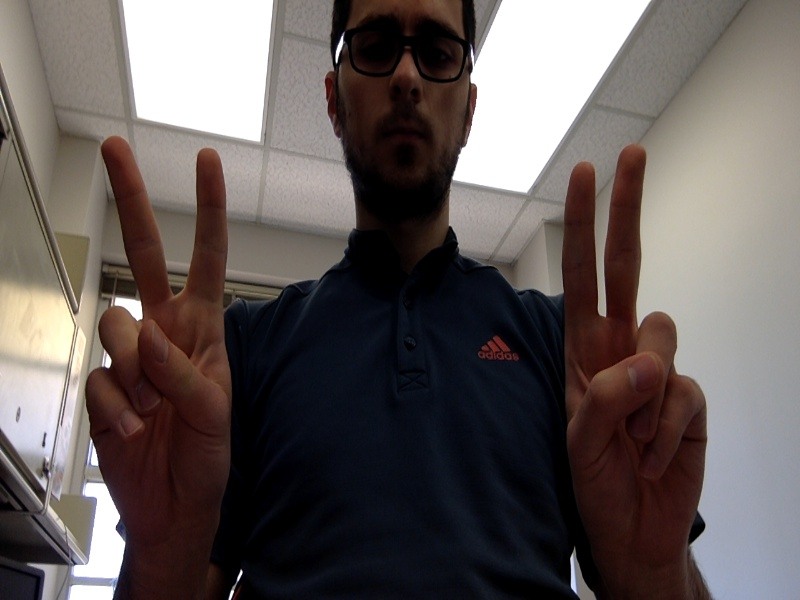2-hand: (85, 135, 230, 558), (562, 146, 706, 559)
